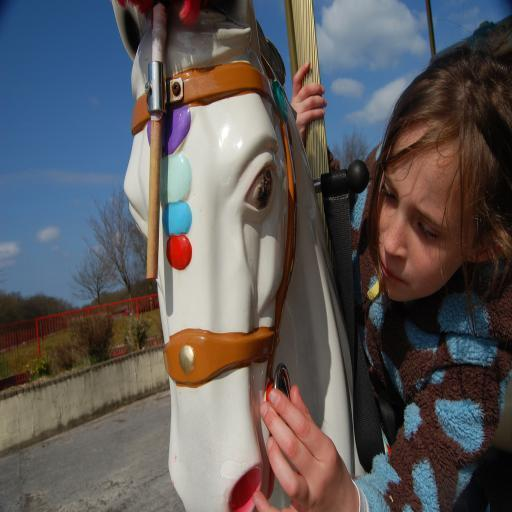horse: (111, 0, 367, 512)
